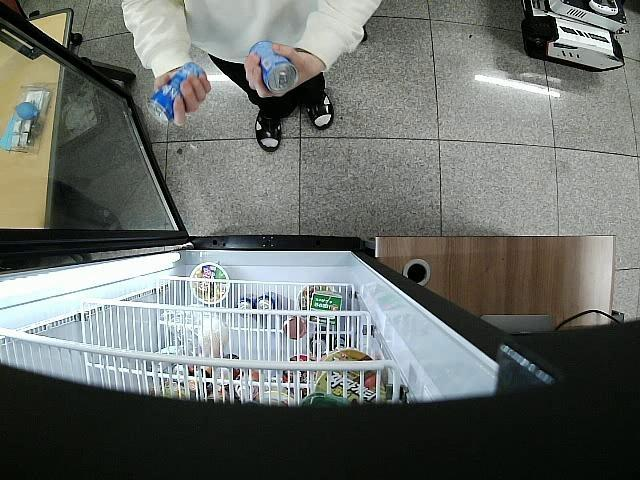15_letsbe: (146, 62, 206, 126), (250, 41, 298, 93)
